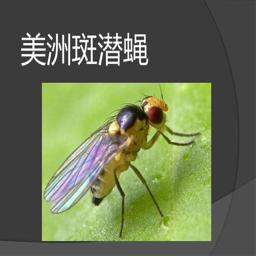liriomyza: (42, 93, 201, 238)
